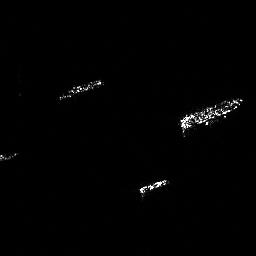ship: (179, 94, 244, 140), (58, 78, 105, 101), (137, 177, 171, 200)
